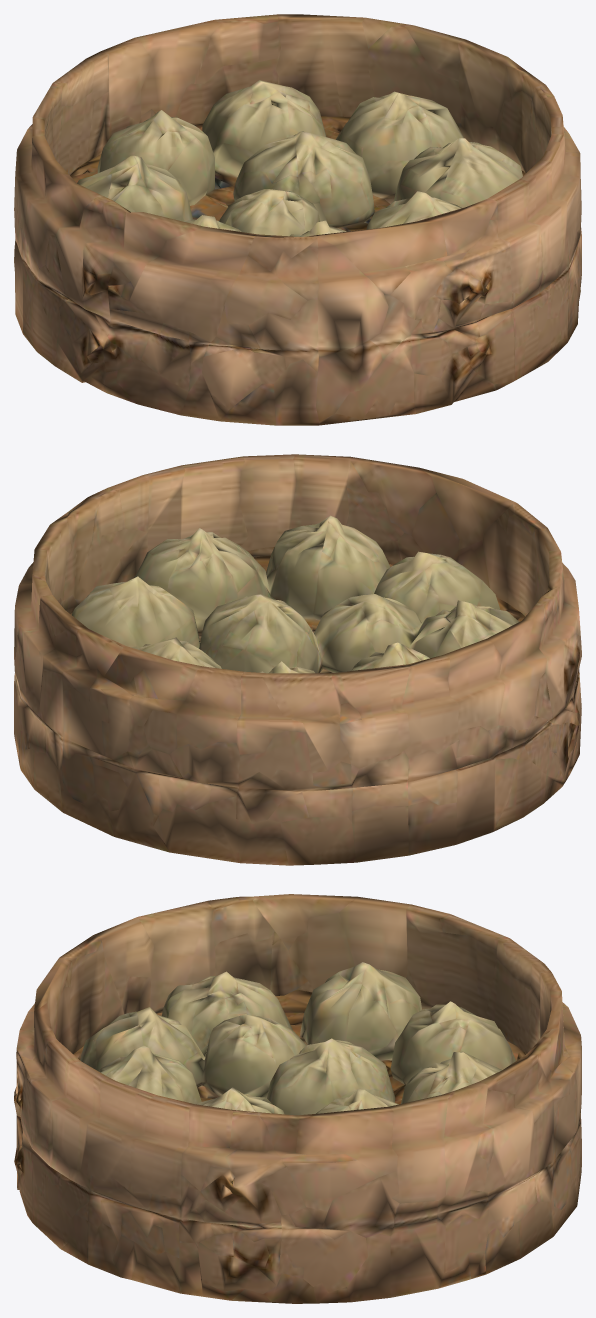
Rendered from veg-momos.glb.
3 views of the same model, one above another, from view 1: azimuth 30°, elevation 25°; view 2: azimuth 150°, elevation 25°; view 3: azimuth 270°, elevation 25° (orthographic).
Parts seen in each view (by area): view 1: mesh_node; view 2: mesh_node; view 3: mesh_node.
Part boxes in pixels (x1=…): mesh_node: x1=14, y1=14, x2=581, y2=425; mesh_node: x1=14, y1=454, x2=581, y2=865; mesh_node: x1=14, y1=894, x2=581, y2=1303.
Size of the model in its own units: 0.2188 by 0.0777 by 0.2199.
1 material, 1 textured.
